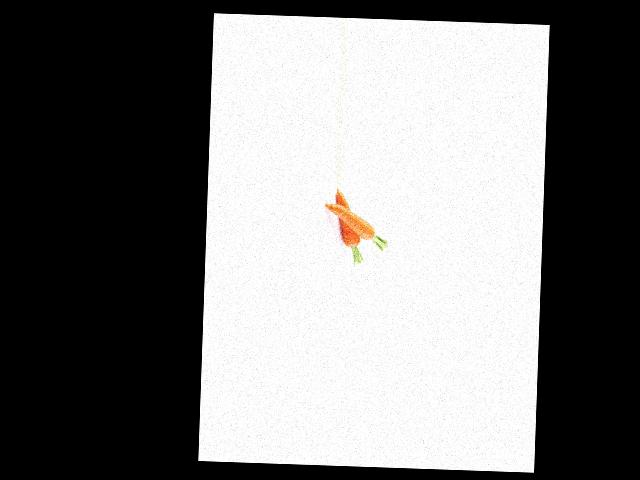carrot: (336, 189, 359, 256)
